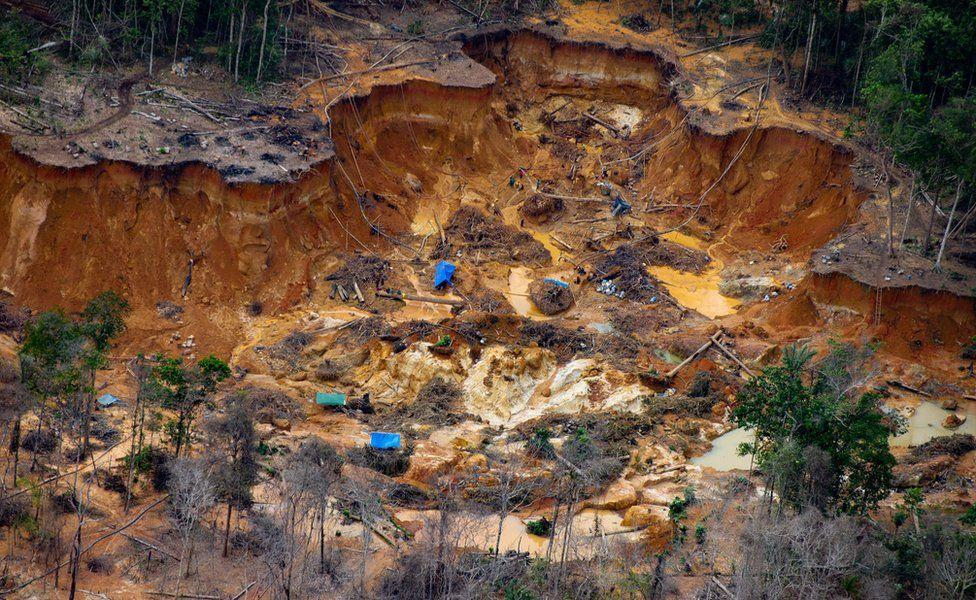Person: (491, 205, 501, 217), (601, 166, 608, 178), (508, 176, 514, 189), (519, 167, 524, 181), (536, 179, 541, 191), (520, 218, 526, 227), (617, 157, 622, 166)
Structure: (312, 391, 349, 412), (435, 260, 457, 294), (370, 428, 402, 451), (542, 278, 570, 301), (97, 391, 121, 408)
